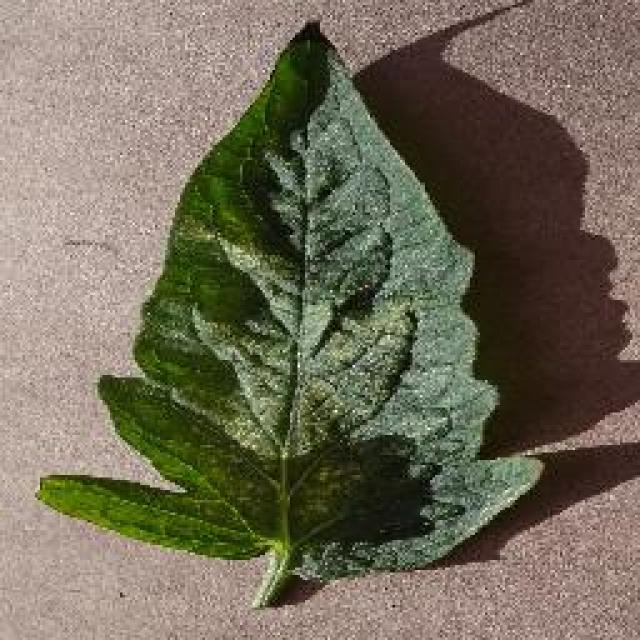Tom_Spider_mites Two-spotted_spider_mite: (182, 125, 402, 500)
